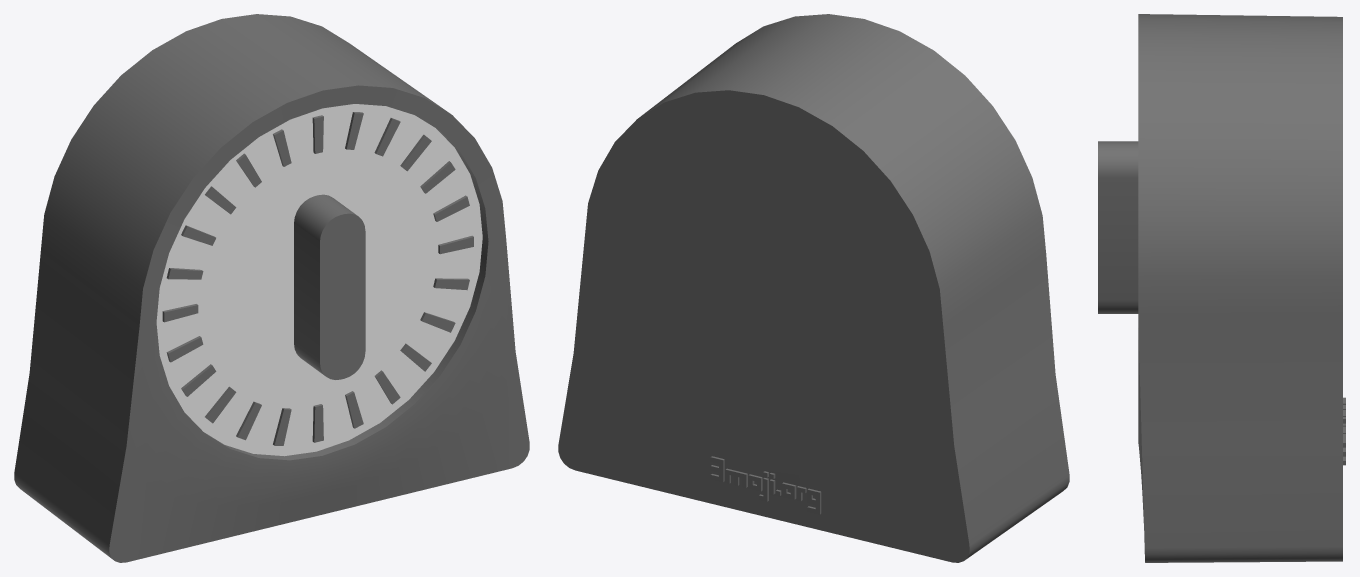
File: timer_clock.fbx
3 views of the same model, side by side, from view 1: azimuth 30°, elevation 25°; view 2: azimuth 150°, elevation 25°; view 3: azimuth 270°, elevation 25° (orthographic).
Visible parts, largest first — view 1: Circle.2423; view 2: Circle.2423; view 3: Circle.2423.
Boxes of the visible parts, <box> form: Circle.2423: <box>14,14,529,562</box>; Circle.2423: <box>558,14,1069,562</box>; Circle.2423: <box>1098,14,1345,562</box>.
Size of the model in its own units: 235 by 229 by 119.
Materials: 1 (1 with a texture image).
